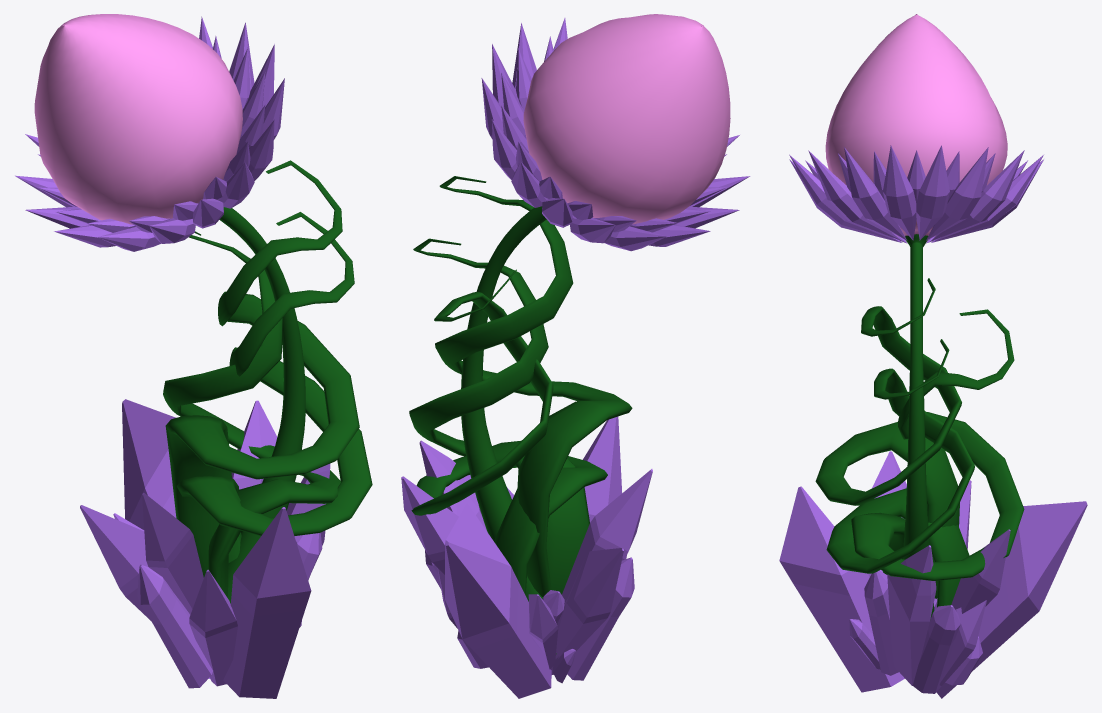
File: Bud Block.fbx
3 renders of one model, left to right at view 1: azimuth 30°, elevation 25°; view 2: azimuth 150°, elevation 25°; view 3: azimuth 270°, elevation 25°, orthographic. The views are drawn at different scales.
Parts seen in each view (by area): view 1: Bud Block; view 2: Bud Block; view 3: Bud Block.
Boxes of the visible parts, box(x1,y1,x2,y2) form: Bud Block: box(15, 14, 372, 698); Bud Block: box(401, 14, 750, 698); Bud Block: box(779, 14, 1087, 698).
Bounding box in the file's own units: 280 × 595 × 271.
